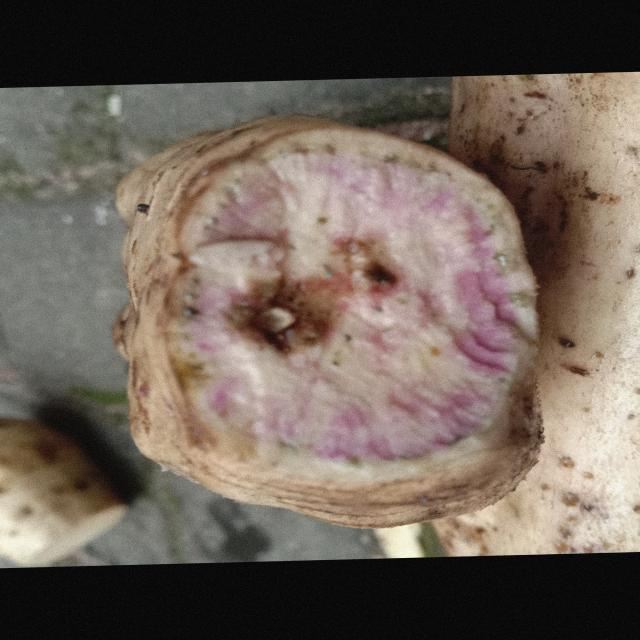Sick Sweet Potato_Tuber Rot: (170, 124, 537, 480)
